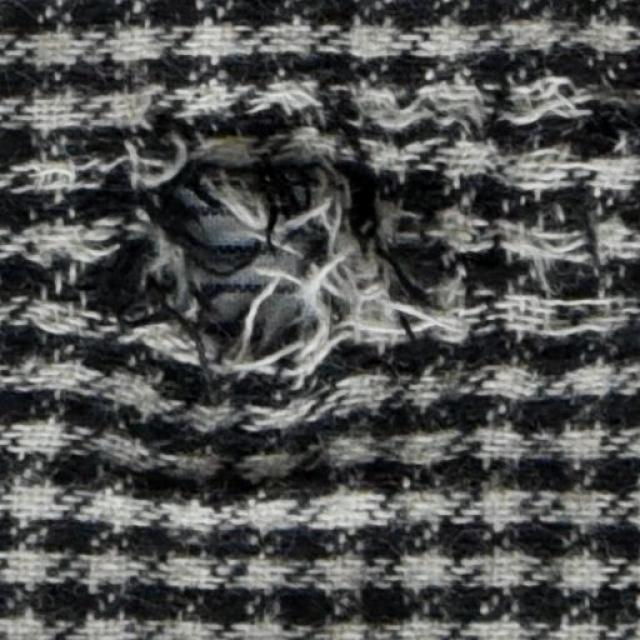Hole: (196, 204, 310, 329)
Snag: (22, 131, 496, 417)
